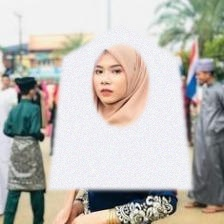Mukena: (48, 23, 192, 189)
